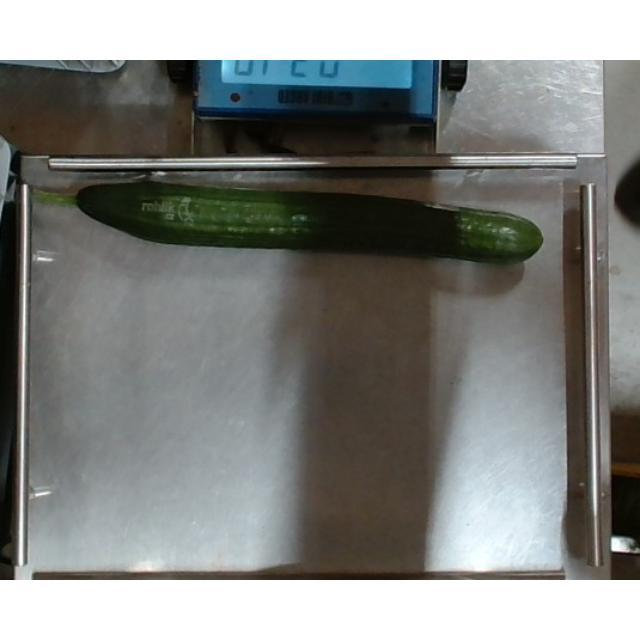cucumber: (33, 172, 544, 264)
